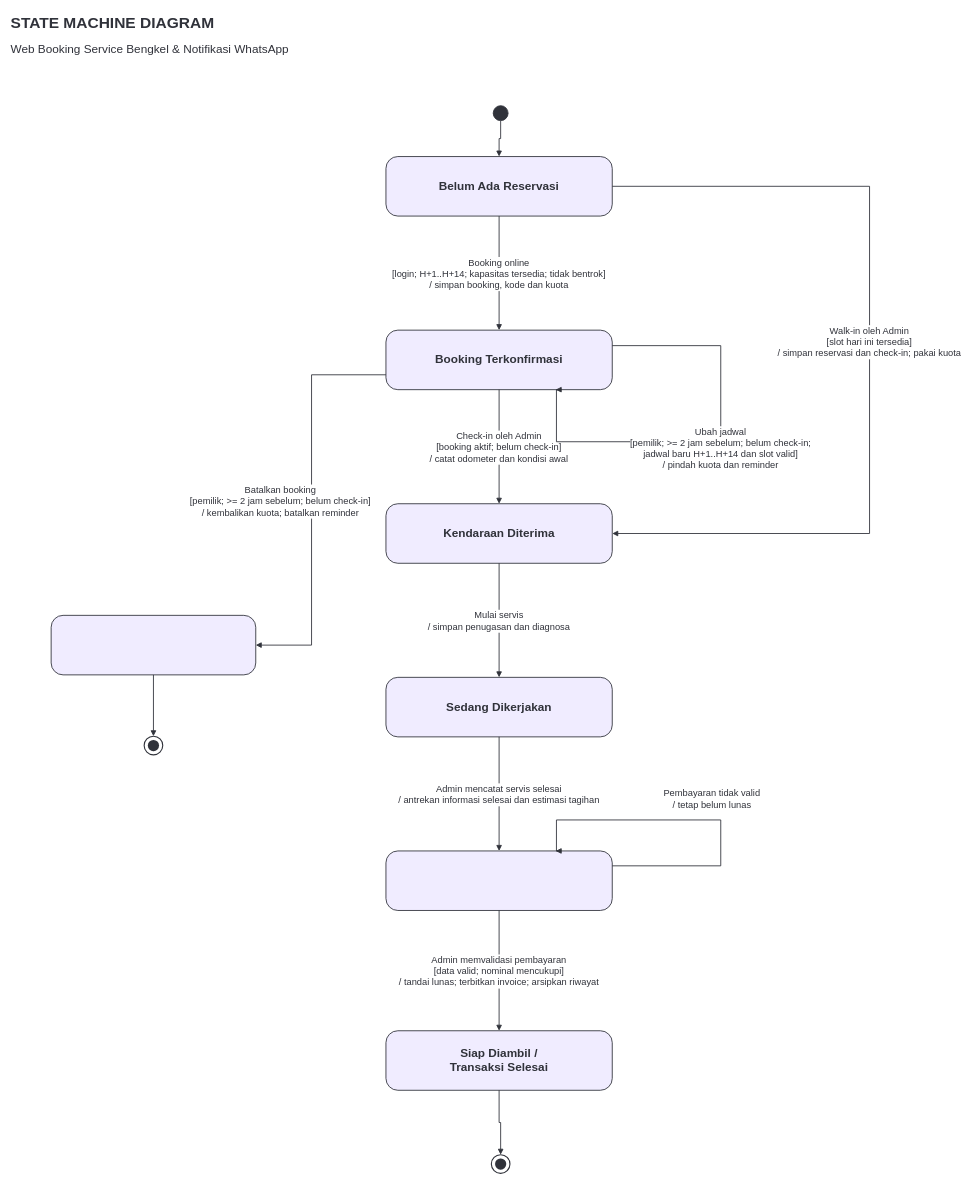
This 973x1184 diagram has some shape labels left out. Here are the shapes that lost their labels. From the top down, the centre of each, then its label:
the point at 153,645: Booking Dibatalkan
the point at 498,880: Selesai Dikerjakan
